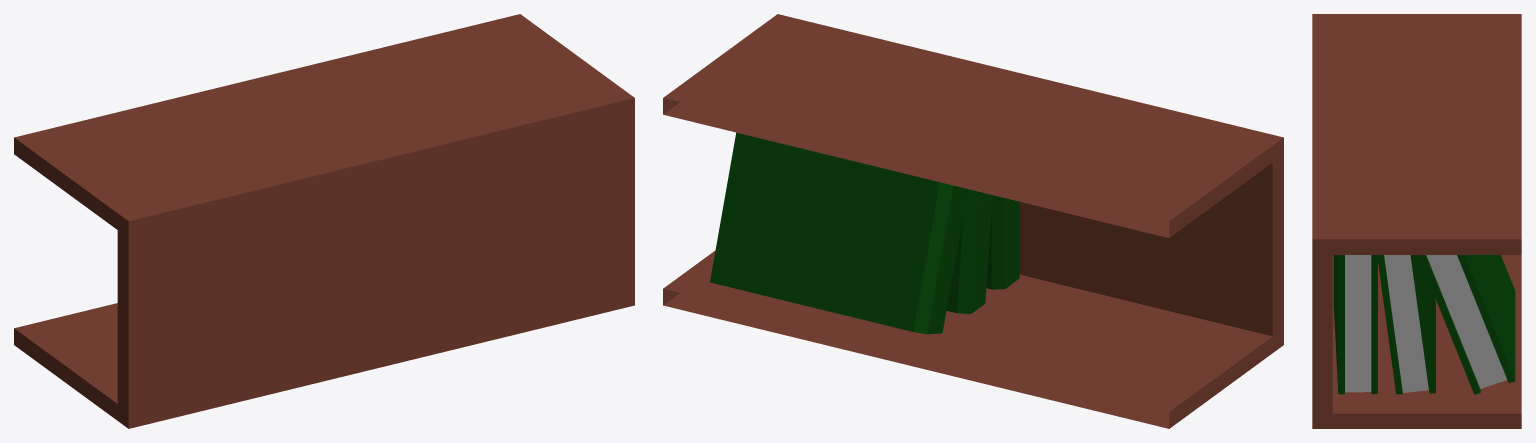
Rendered from LibShelf_Left.fbx.
3 views of the same model, side by side, from view 1: azimuth 30°, elevation 25°; view 2: azimuth 150°, elevation 25°; view 3: azimuth 270°, elevation 25° (orthographic). The views are drawn at different scales.
Visible parts, largest first — view 1: LibraryBookshelf_Left; view 2: LibraryBookshelf_Left; view 3: LibraryBookshelf_Left.
Boxes of the visible parts, bbox=[...] form: LibraryBookshelf_Left: bbox=[14, 14, 634, 428]; LibraryBookshelf_Left: bbox=[663, 14, 1283, 428]; LibraryBookshelf_Left: bbox=[1312, 14, 1521, 428].
Bounding box in the file's own units: 510 × 200 × 200.
